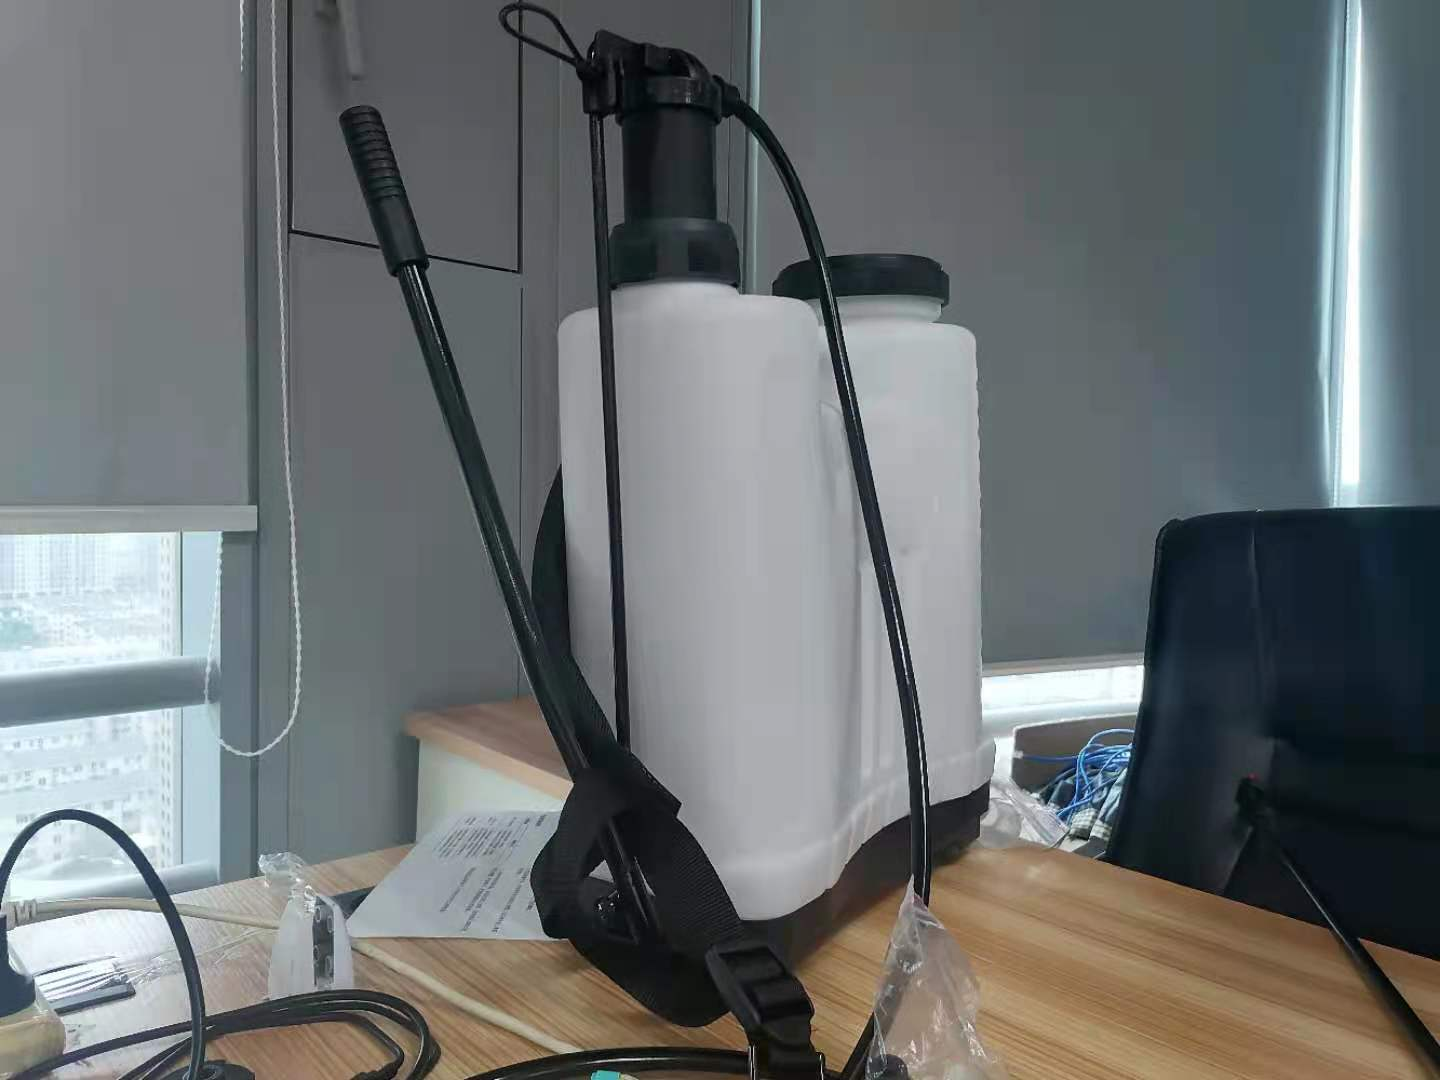berrl: (556, 26, 1003, 981)
